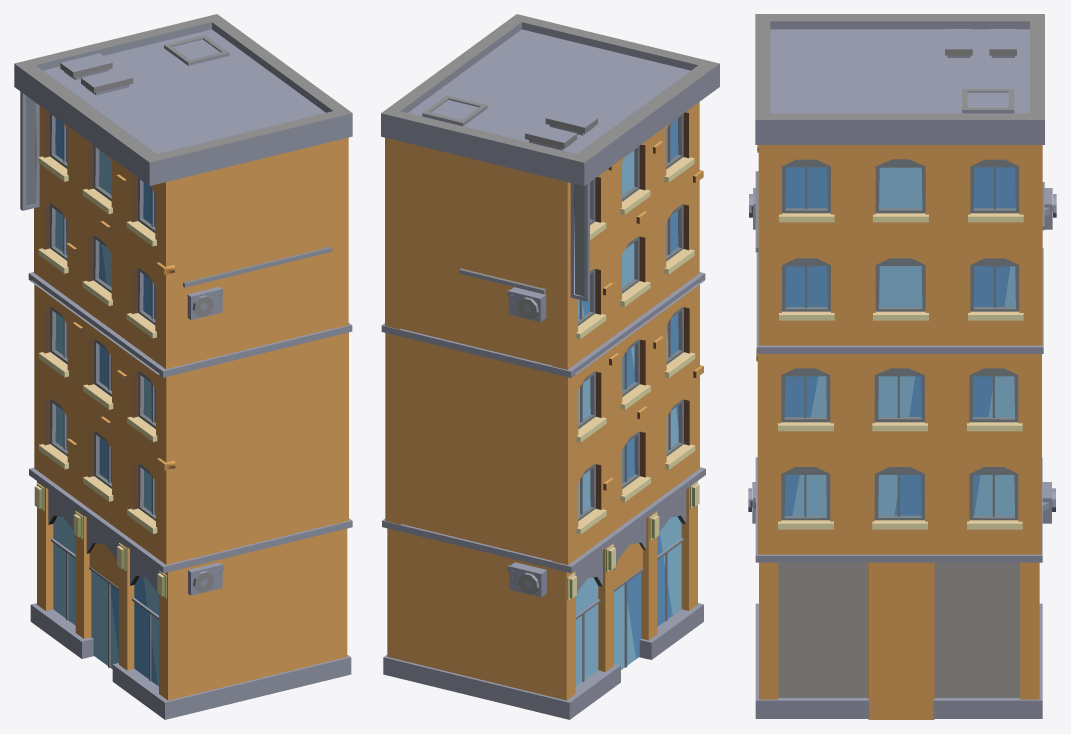
The model's file is putong_zhongxing15.fbx.
3 views of the same model, side by side, from view 1: azimuth 30°, elevation 25°; view 2: azimuth 150°, elevation 25°; view 3: azimuth 270°, elevation 25° (orthographic). The views are drawn at different scales.
Parts seen in each view (by area): view 1: putong_zhongxing15; view 2: putong_zhongxing15; view 3: putong_zhongxing15.
Part boxes in pixels (x1,y1,x2,y2): putong_zhongxing15: (14,14,352,719); putong_zhongxing15: (381,14,719,719); putong_zhongxing15: (748,14,1056,719).
Size of the model in its own units: 316 by 386 by 835.
